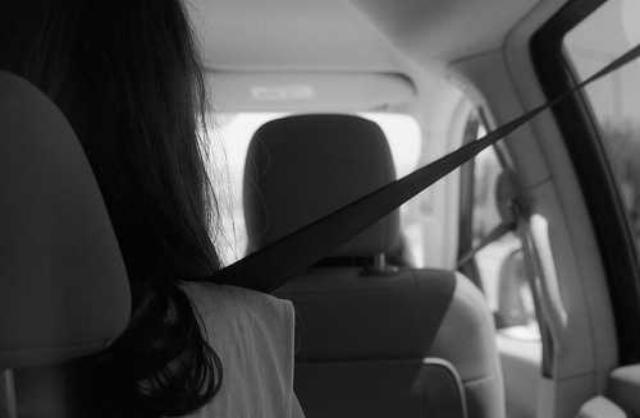Seatbelt: (198, 40, 640, 298)
